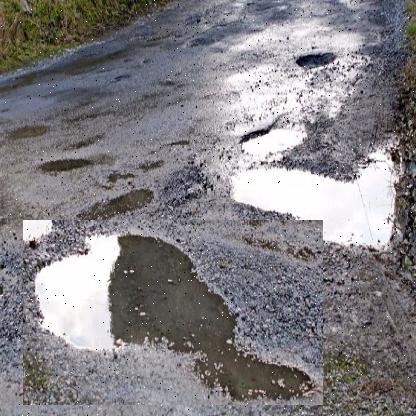pothole_water: (222, 126, 415, 266)
pothole_water_m: (23, 220, 324, 406)
